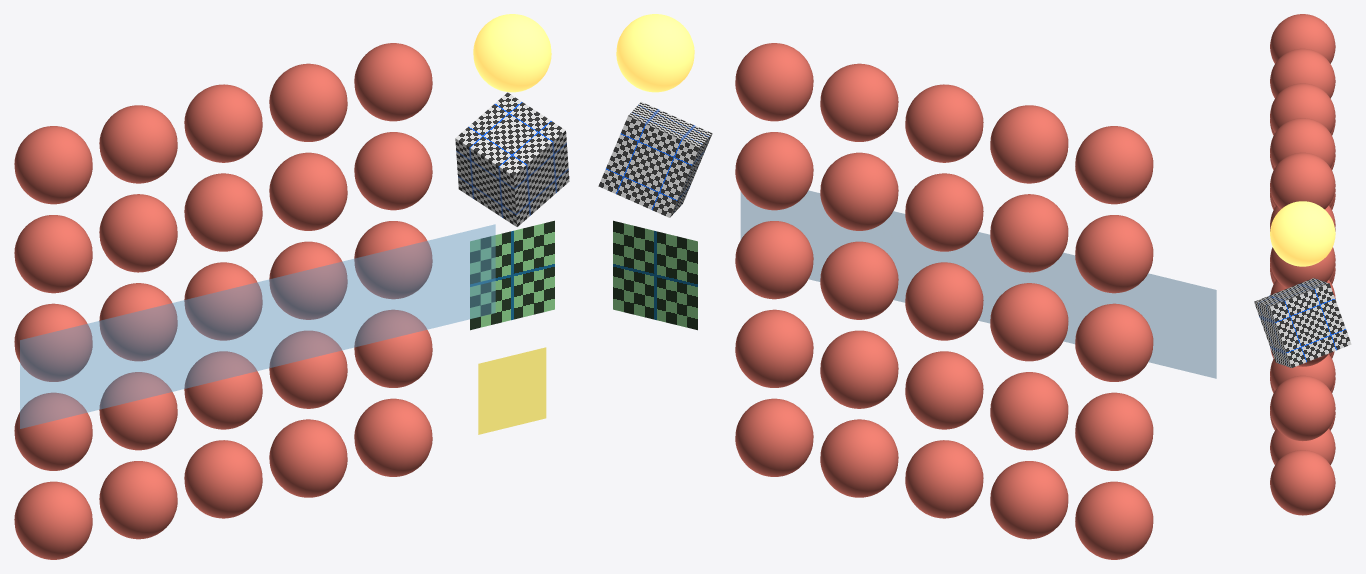
File: pbr_materials.gltf
The picture shows the model from 3 angles, left to right: view 1: azimuth 30°, elevation 25°; view 2: azimuth 150°, elevation 25°; view 3: azimuth 270°, elevation 25°; orthographic projection. The views are drawn at different scales.
Visible parts, largest first — view 1: blend_quad, textured_cube, mask_quad, unlit_quad, sphere_0_3, sphere_1_3, sphere_1_4, sphere_1_2, sphere_4_1, sphere_1_1, sphere_4_3, sphere_0_1 (+18 smaller); view 2: blend_quad, textured_cube, mask_quad, sphere_2_4, sphere_3_4, sphere_4_2, sphere_4_4, sphere_1_1, sphere_1_2, sphere_1_3, sphere_0_1, sphere_0_2 (+17 smaller); view 3: textured_cube, sphere_4_4, emissive, sphere_3_4, sphere_0_4, sphere_0_1, sphere_0_2, sphere_0_0, sphere_0_3, sphere_1_4, sphere_4_3, sphere_3_3 (+2 smaller).
Part boxes in pixels (<box>): blend_quad: <box>20,224,495,428</box>; textured_cube: <box>455,92,569,226</box>; mask_quad: <box>470,220,554,330</box>; unlit_quad: <box>478,347,546,434</box>; sphere_0_3: <box>269,63,347,141</box>; sphere_1_3: <box>269,152,347,230</box>; sphere_1_4: <box>354,132,432,210</box>; sphere_1_2: <box>184,173,262,251</box>; sphere_4_1: <box>99,461,177,539</box>; sphere_1_1: <box>99,194,177,272</box>; sphere_4_3: <box>269,419,347,497</box>; sphere_0_1: <box>99,105,177,183</box>; blend_quad: <box>740,190,1216,378</box>; textured_cube: <box>598,101,712,217</box>; mask_quad: <box>613,220,697,330</box>; sphere_2_4: <box>735,221,813,299</box>; sphere_3_4: <box>735,309,813,387</box>; sphere_4_2: <box>905,440,983,518</box>; sphere_4_4: <box>735,398,813,476</box>; sphere_1_1: <box>990,194,1068,272</box>; sphere_1_2: <box>905,173,983,251</box>; sphere_1_3: <box>820,152,898,230</box>; sphere_0_1: <box>990,105,1068,183</box>; sphere_0_2: <box>905,84,983,162</box>; textured_cube: <box>1254,278,1351,367</box>; sphere_4_4: <box>1270,450,1335,515</box>; emissive: <box>1270,201,1335,266</box>; sphere_3_4: <box>1270,375,1335,441</box>; sphere_0_4: <box>1270,152,1335,209</box>; sphere_0_1: <box>1270,48,1335,98</box>; sphere_0_2: <box>1270,83,1335,132</box>; sphere_0_0: <box>1270,14,1335,63</box>; sphere_0_3: <box>1270,118,1335,167</box>; sphere_1_4: <box>1270,247,1335,288</box>; sphere_4_3: <box>1270,428,1335,464</box>; sphere_3_3: <box>1270,354,1335,390</box>.
Size of the model in its own units: 6.8 by 4.8 by 1.3.
Materials: 30 (2 with a texture image).
